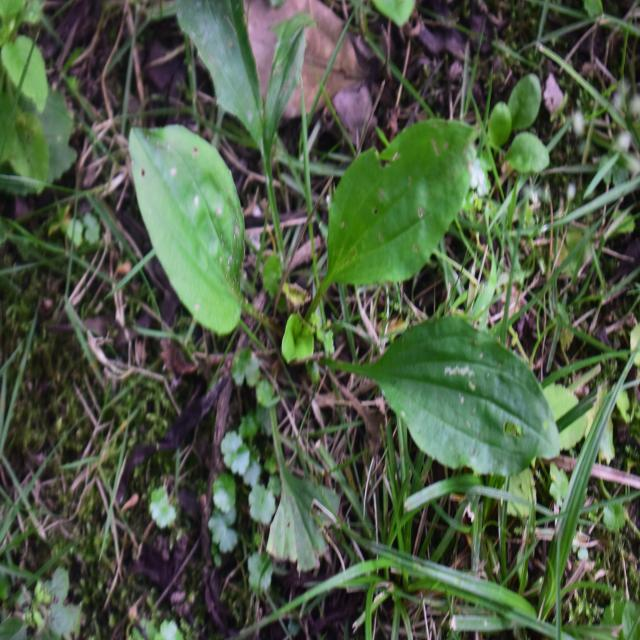plantain: (136, 104, 538, 465)
